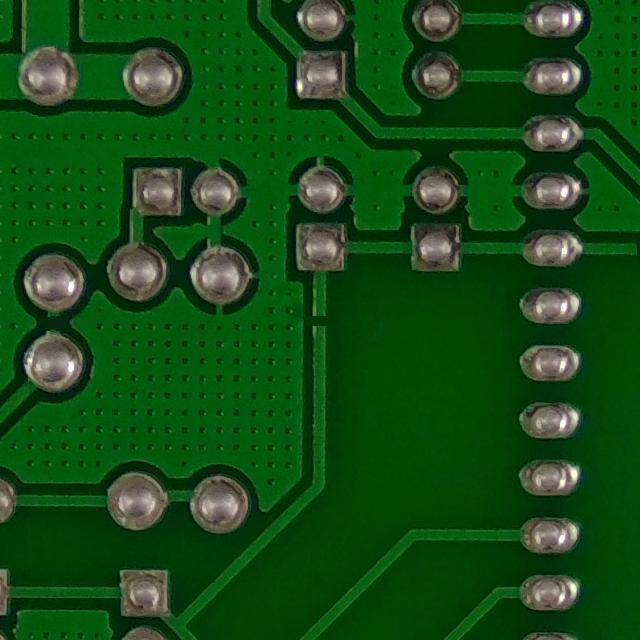open_circuit: (305, 304, 335, 337)
